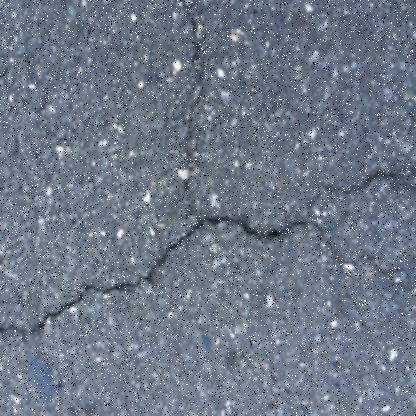Cracks: (0, 156, 415, 346)
